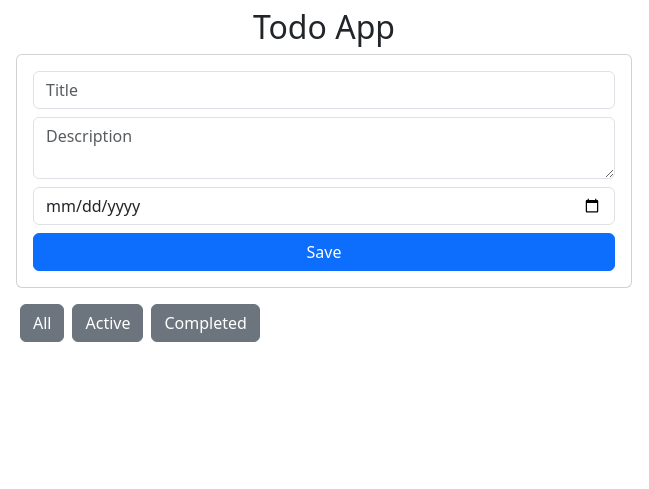
TodoList Component › deletes a todo
Type "Test Delete" into the field with placeholder "Title" at x=324, y=90, box [33,71,615,109]
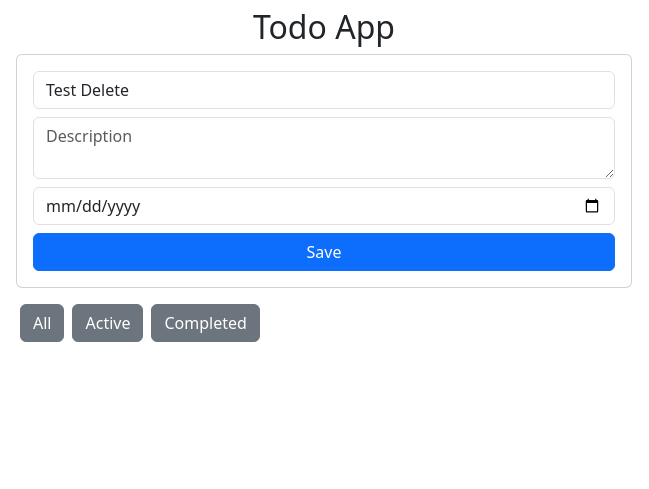
Click the button "Save" at x=324, y=252, box [33,233,615,271]
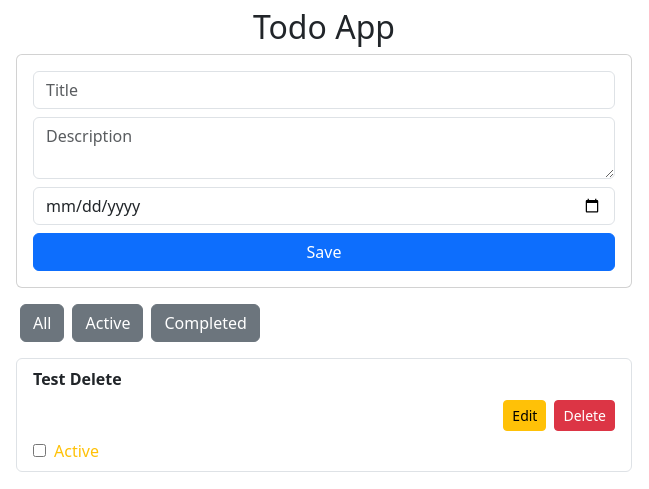
Click the button "Delete" at x=585, y=415, box [554,400,615,431]
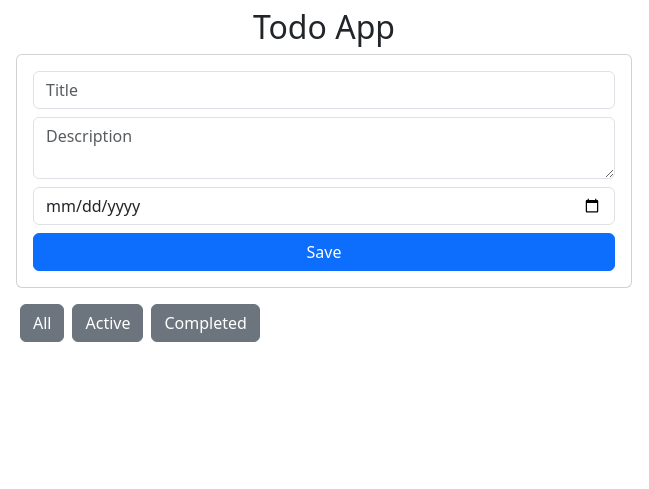
Expected: the text "Test Delete" is gone
